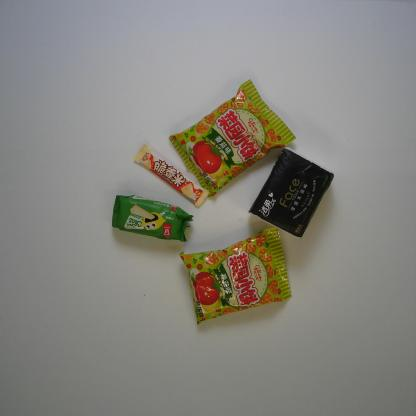Chocolate: (133, 142, 211, 210)
Dessert: (110, 193, 196, 243)
Puffed Food: (167, 78, 298, 201), (178, 226, 294, 327)
Tissue: (247, 145, 336, 240)
